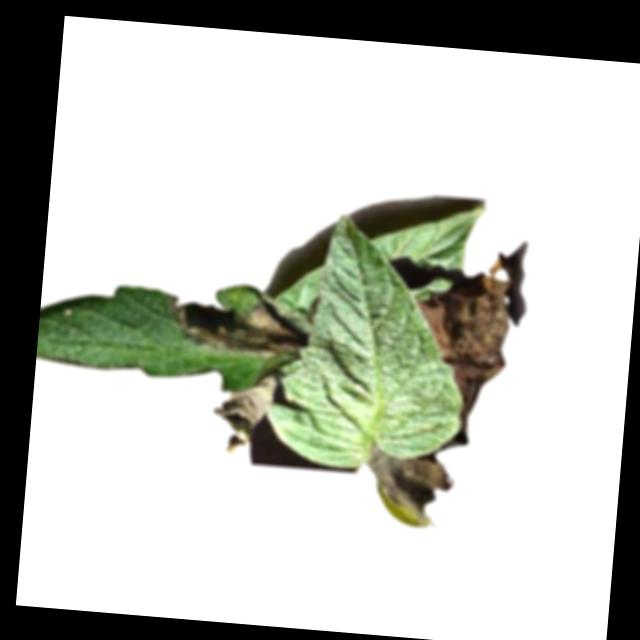Late_blight: (404, 229, 517, 452), (160, 287, 317, 360), (363, 445, 456, 531), (210, 366, 283, 458)
healthy: (265, 210, 477, 476)
